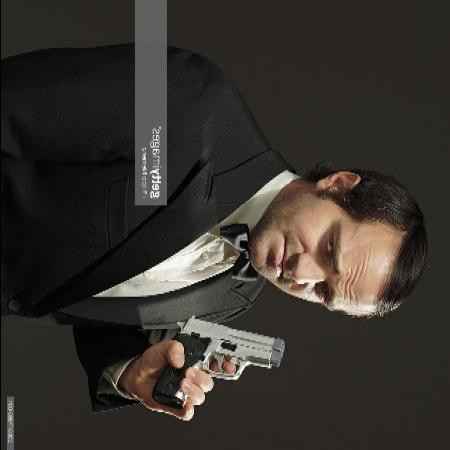Pistol: (154, 315, 287, 411)
